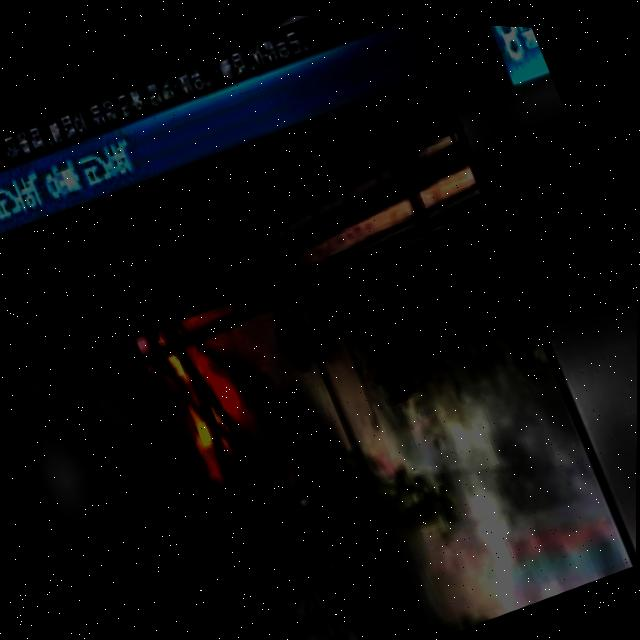Fire: (146, 305, 259, 471)
Smoke: (220, 238, 576, 640)
